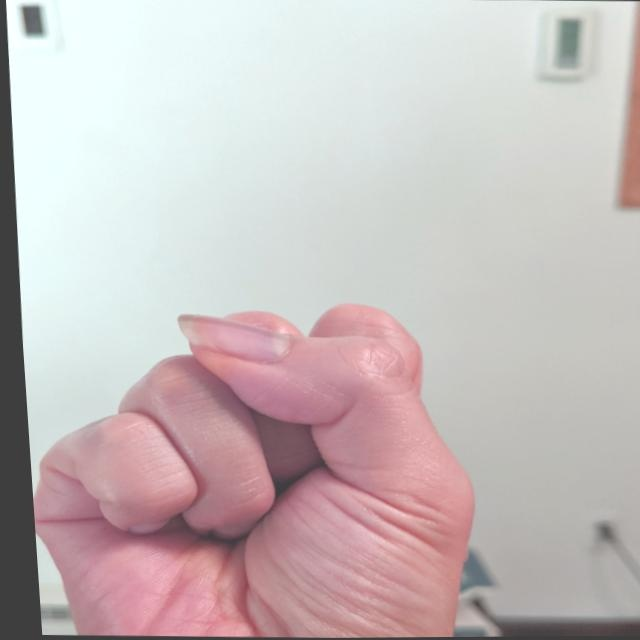S: (15, 289, 493, 639)
